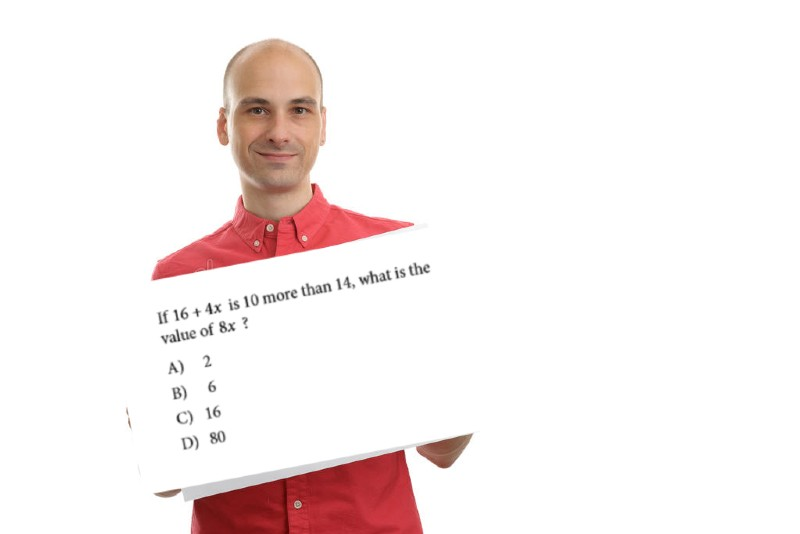questionPaper: (113, 247, 454, 476)
